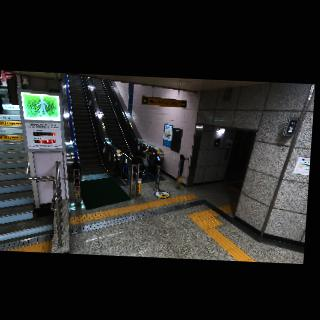anomaly: (126, 145, 154, 174)
